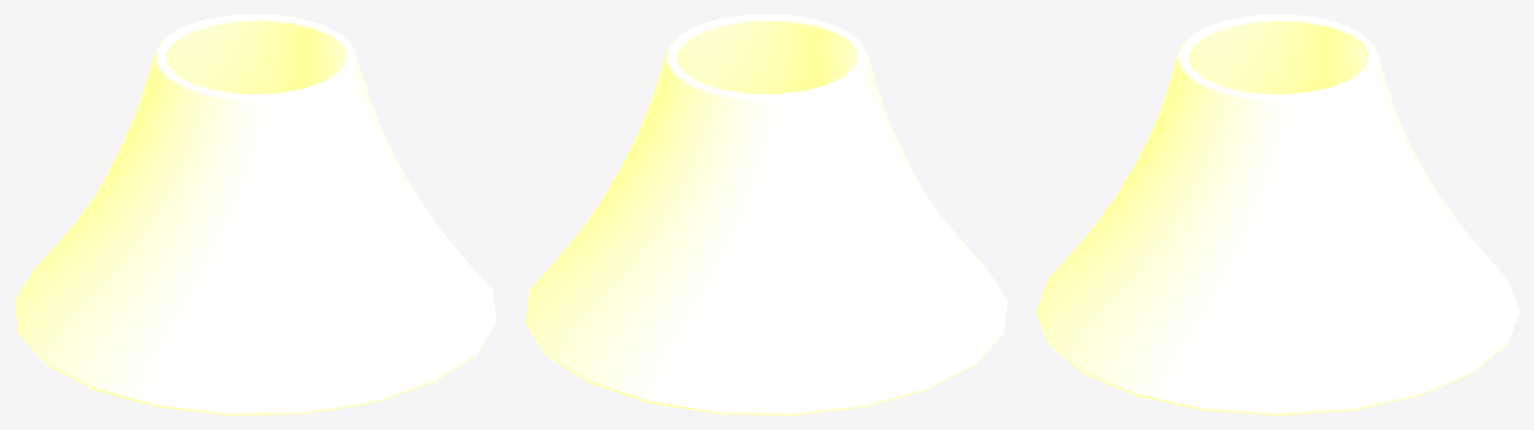
3 views of the same model, side by side, from view 1: azimuth 30°, elevation 25°; view 2: azimuth 150°, elevation 25°; view 3: azimuth 270°, elevation 25° (orthographic).
Visible parts, largest first — view 1: Object_2; view 2: Object_2; view 3: Object_2.
Part boxes in pixels (x1,y1,x2,y2): Object_2: (14, 14, 496, 415); Object_2: (525, 14, 1007, 415); Object_2: (1036, 14, 1519, 415).
Size of the model in its own units: 14.84 by 8.78 by 14.84.
